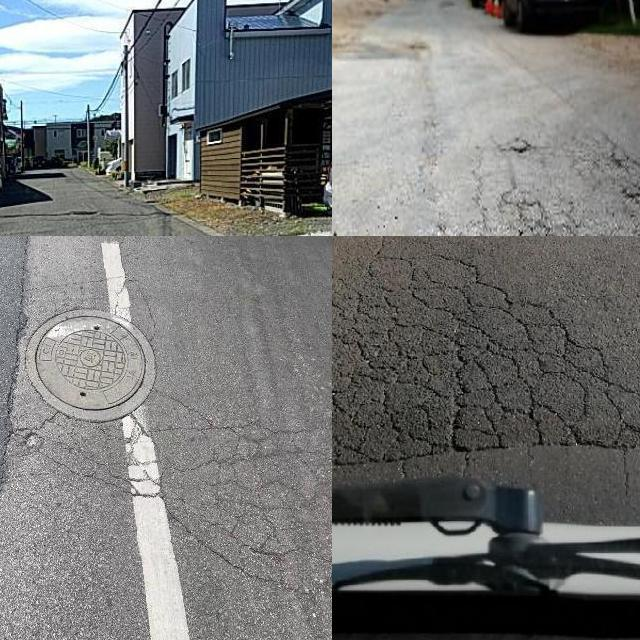Retak Buaya: (332, 236, 640, 467)
